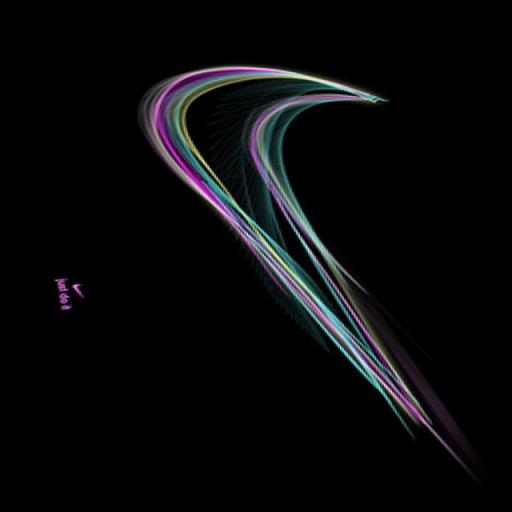Nike: (157, 49, 449, 482)
